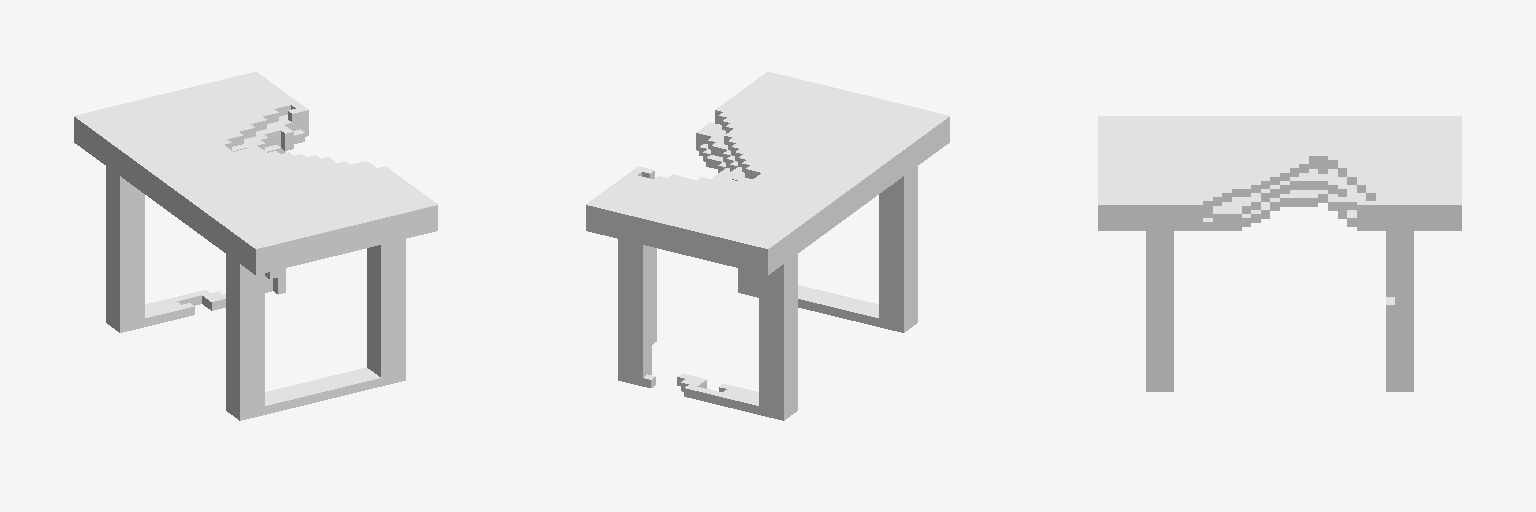
The model's file is Table2(Battle-Scarred).obj.
3 renders of one model, left to right at view 1: azimuth 30°, elevation 25°; view 2: azimuth 150°, elevation 25°; view 3: azimuth 270°, elevation 25°, orthographic.
Visible parts, largest first — view 1: object 1; view 2: object 1; view 3: object 1.
Boxes of the visible parts, x1=… form: object 1: x1=74, y1=72, x2=437, y2=420; object 1: x1=586, y1=72, x2=949, y2=420; object 1: x1=1098, y1=116, x2=1461, y2=391.
Bounding box in the file's own units: 2.2 × 2.2 × 3.8.